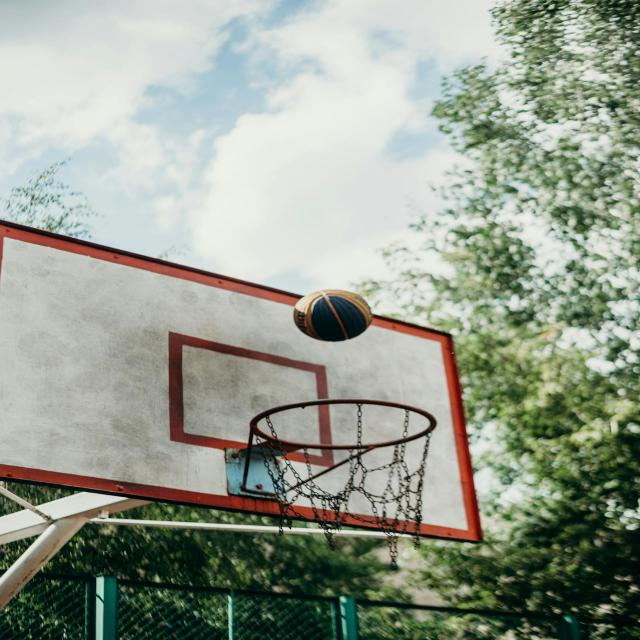Basketball: (292, 287, 370, 340)
